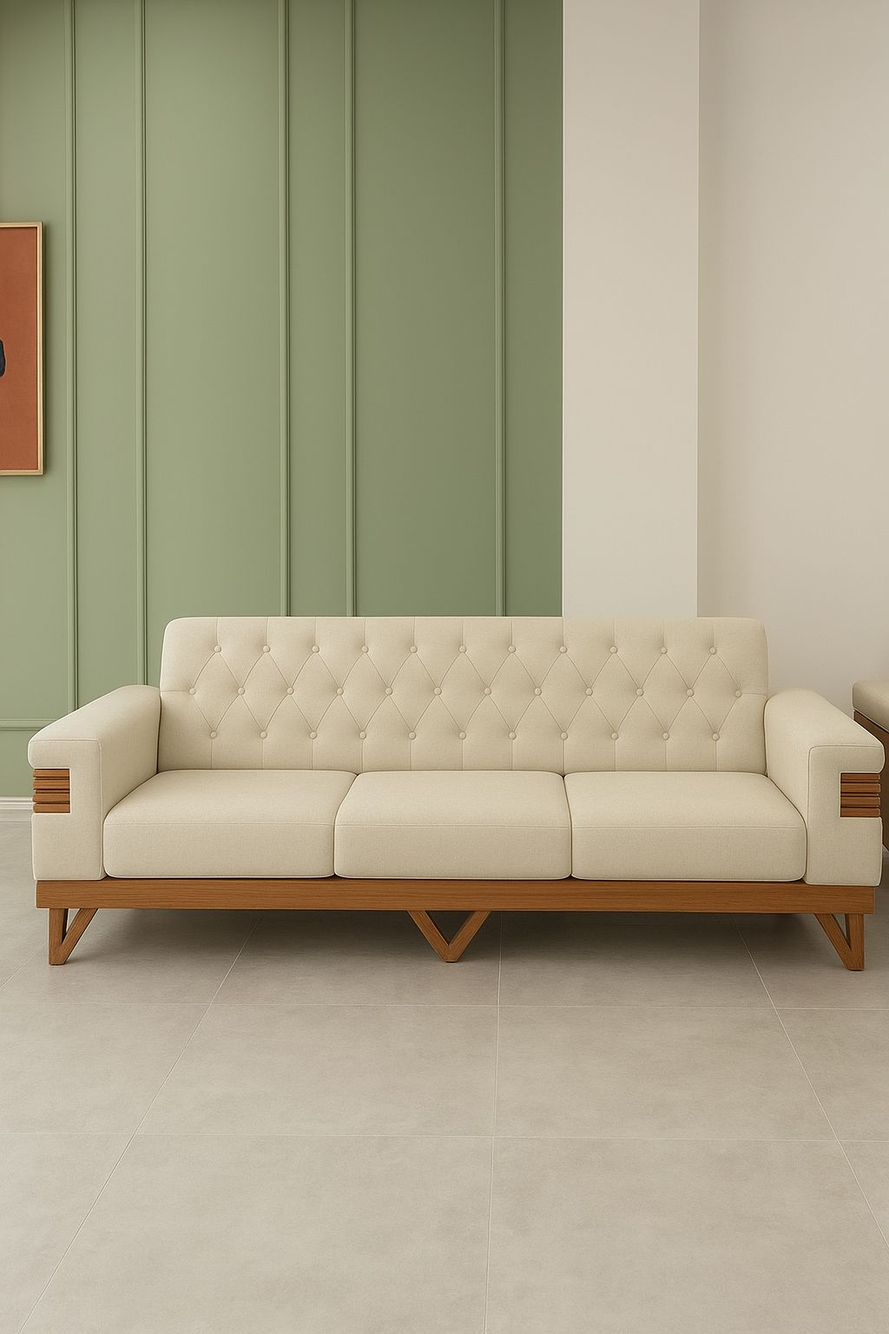3seatersofa: (29, 617, 883, 970)
backrest: (153, 617, 767, 774)
base: (37, 878, 873, 915)
leftarmrest: (766, 691, 882, 884)
leg: (408, 911, 489, 961), (49, 906, 96, 964), (816, 914, 864, 970)
rightarmrest: (29, 685, 159, 880)
seat: (104, 772, 805, 881)
